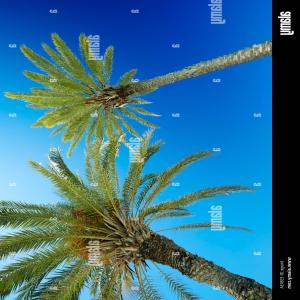palm tree: (0, 127, 271, 299)
